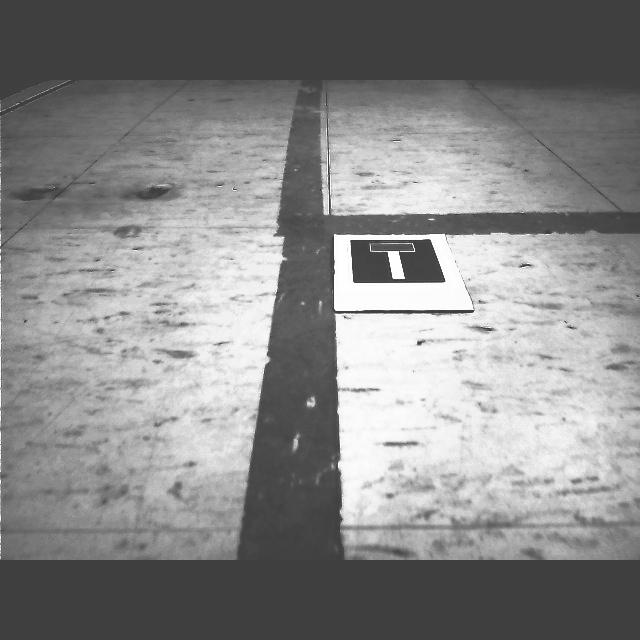DEAD END: (349, 239, 447, 284)
